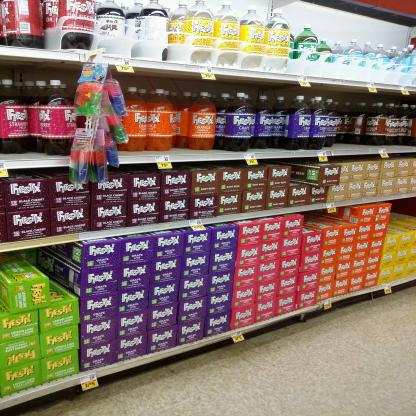Void: (46, 244, 76, 298), (301, 215, 355, 226), (393, 199, 414, 227), (294, 165, 316, 182)
